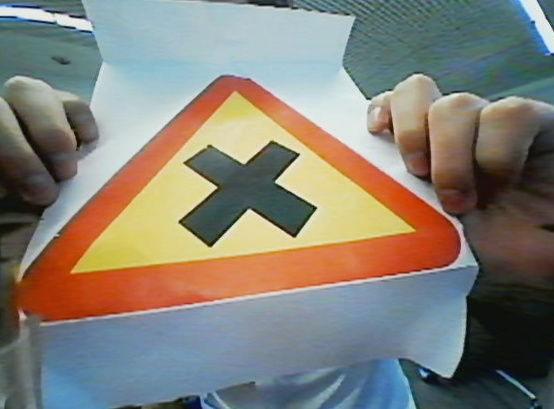junction: (10, 55, 470, 335)
